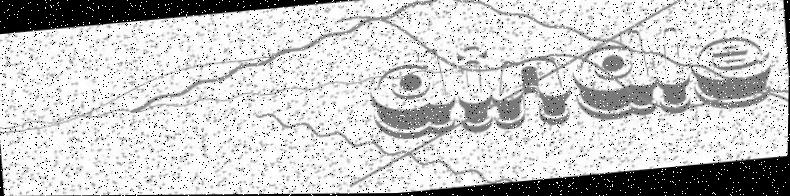d: (365, 46, 460, 144), (568, 29, 660, 125)
e: (689, 33, 775, 114)
i: (453, 44, 497, 136)
l: (652, 25, 696, 117)
n: (490, 54, 576, 133)
